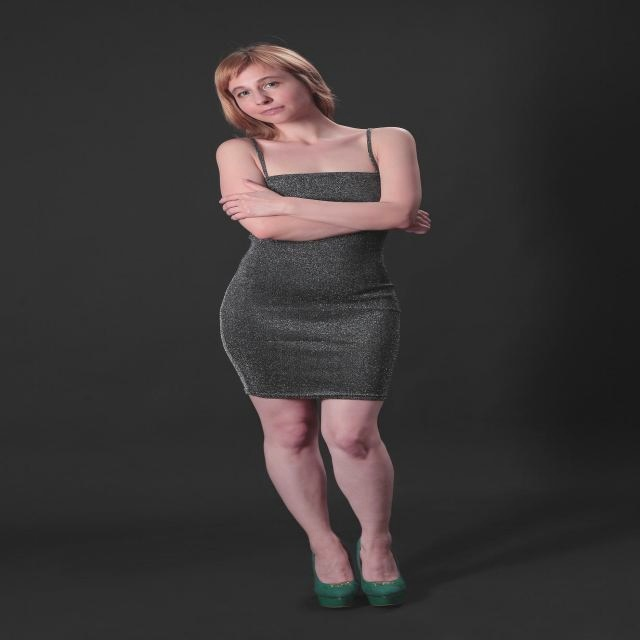Miniskirt: (217, 265, 403, 531)
Sleeveless: (213, 137, 253, 171), (372, 126, 417, 156)
low_neckline: (247, 124, 385, 272)
